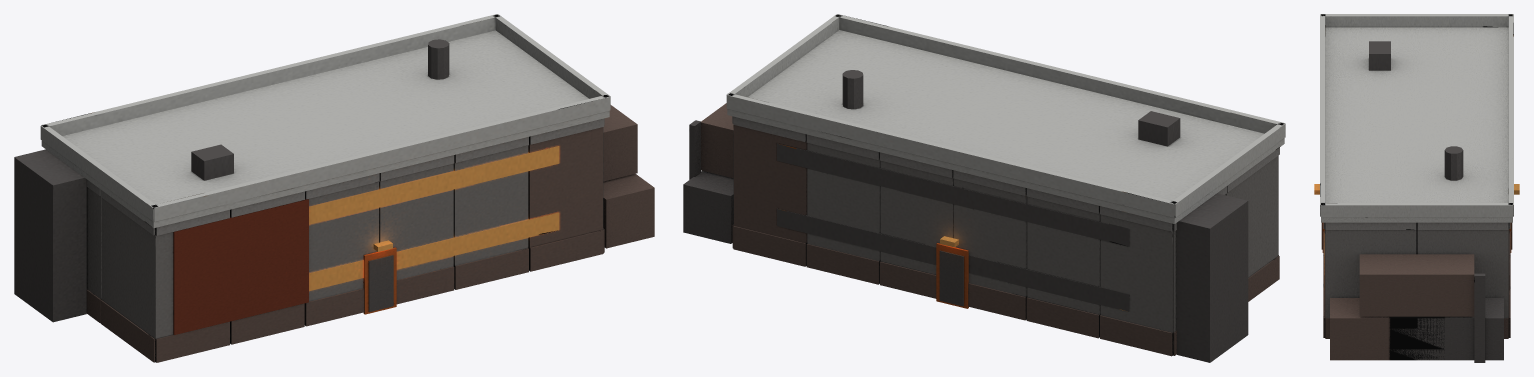
File: B_dorm.glb
3 renders of one model, left to right at view 1: azimuth 30°, elevation 25°; view 2: azimuth 150°, elevation 25°; view 3: azimuth 270°, elevation 25°, orthographic. The views are drawn at different scales.
Visible parts, largest first — view 1: Cube; view 2: Cube; view 3: Cube.
Boxes of the visible parts, <box> form: Cube: <box>14,14,654,362</box>; Cube: <box>683,14,1285,362</box>; Cube: <box>1314,14,1519,362</box>.
Size of the model in its own units: 29.05 by 9.1 by 11.1.
Materials: 1 (1 with a texture image).
